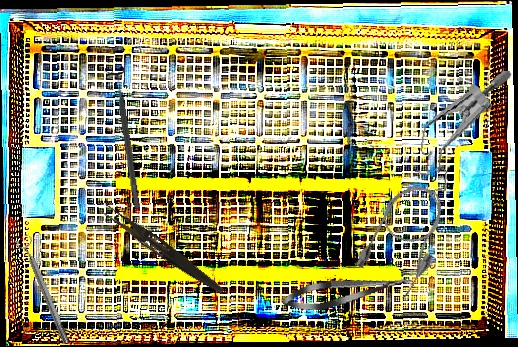Cannula: (350, 174, 461, 302)
Dressing Forceps: (97, 203, 229, 296)
Fixation Ring: (14, 235, 75, 347), (103, 65, 149, 211)
Micro Scissor: (280, 267, 416, 316)
Speculum: (408, 57, 515, 206)
